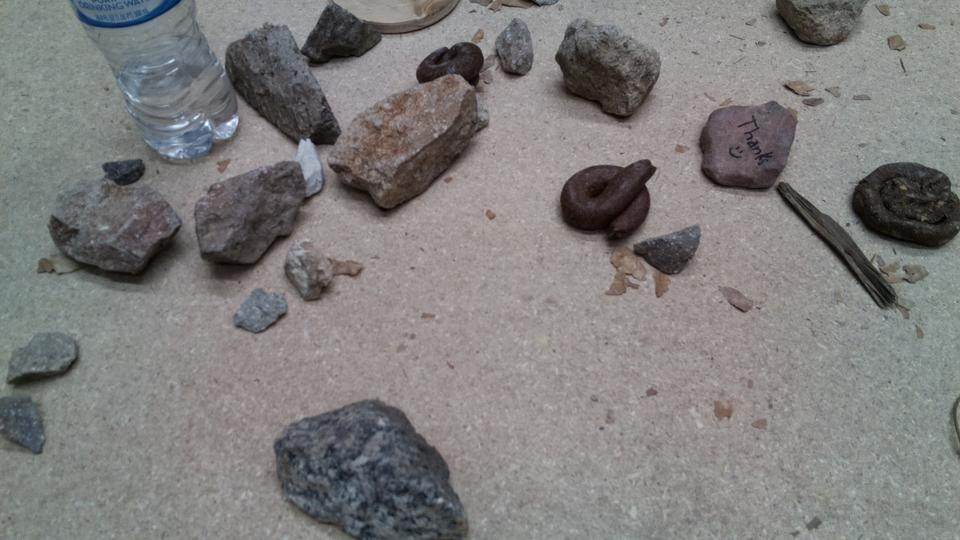poop: (851, 158, 960, 249), (560, 155, 659, 240), (414, 39, 486, 89)
